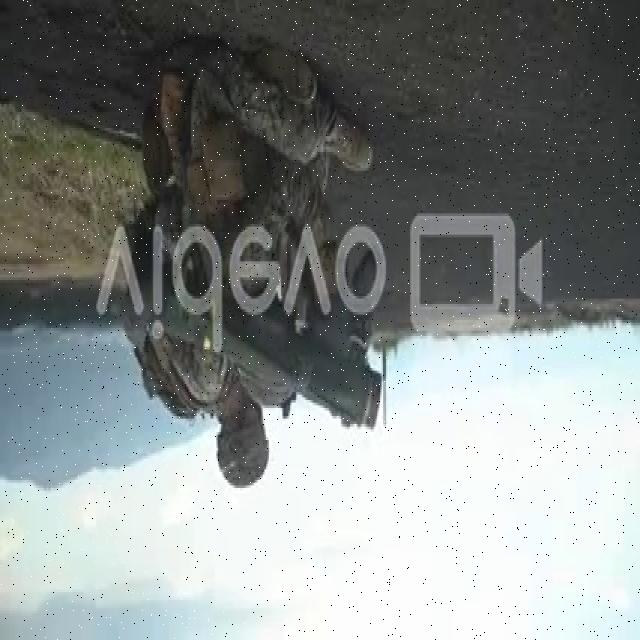bazooka: (127, 225, 389, 449)
